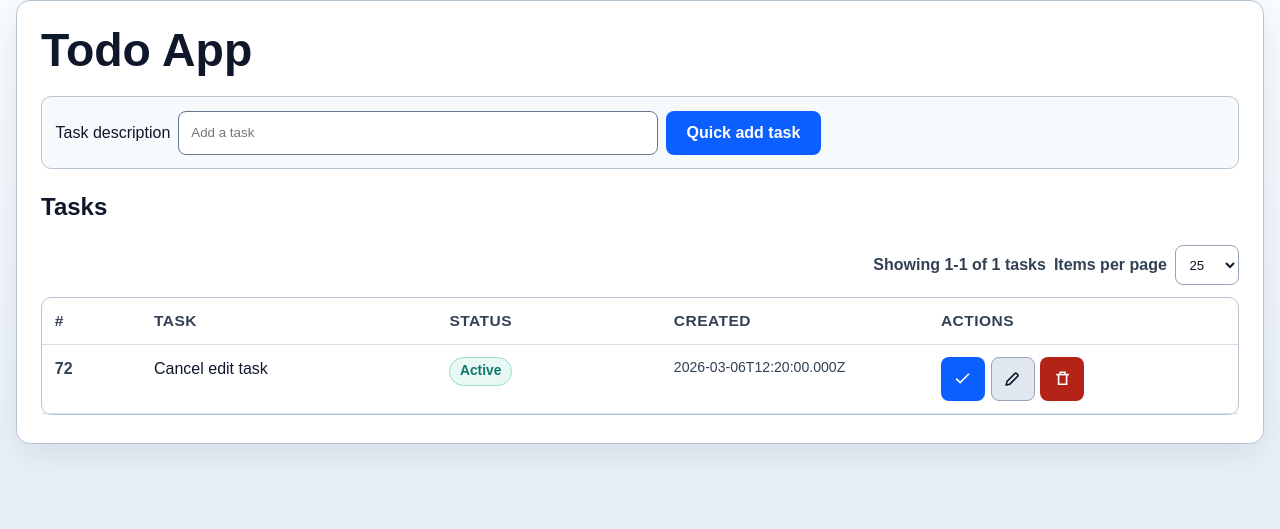
Task list and quick-add flows › cancels inline edit without sending PATCH mutation
expect the text "Cancel edit task" is shown: met, box top-left (154, 360), bottom-right (268, 377)
Click the button named "Edit task \"Cancel edit task\"" at (1012, 379), box top-left (990, 357), bottom-right (1034, 401)
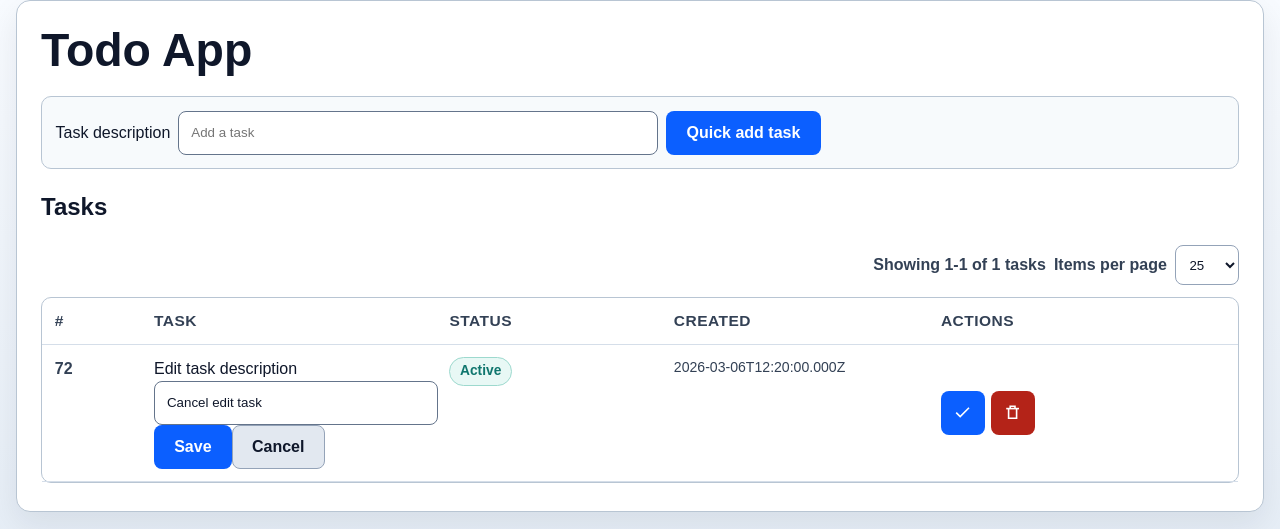
Replace the text in the field named "Edit description for task \"Cancel edit task\"" with "Should not persist" at (296, 403), box top-left (154, 381), bottom-right (438, 425)
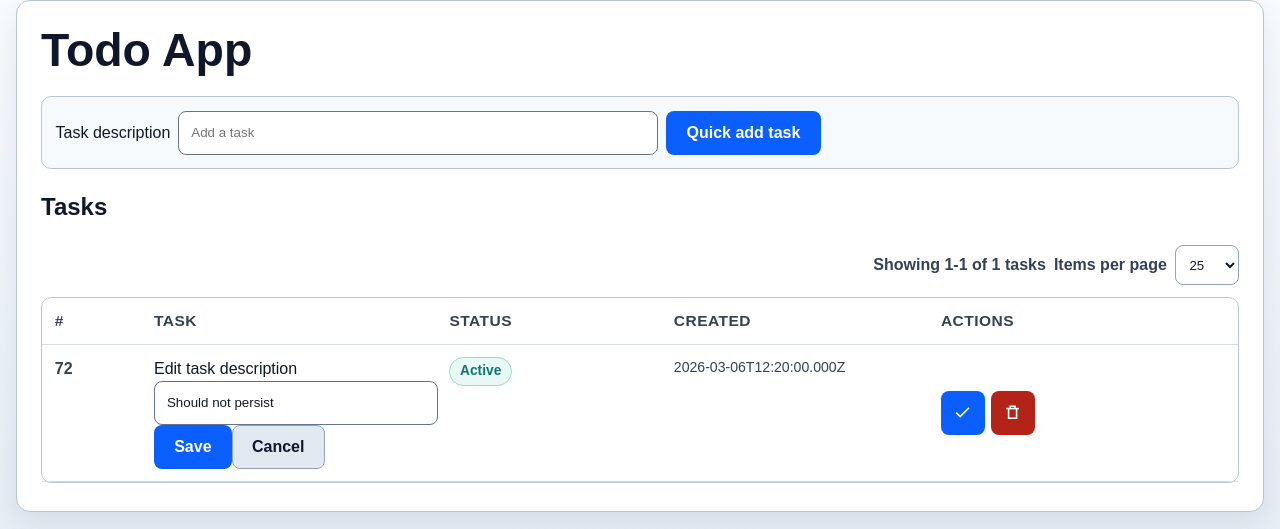
Click the button "Cancel" at (278, 447), box top-left (232, 425), bottom-right (324, 469)
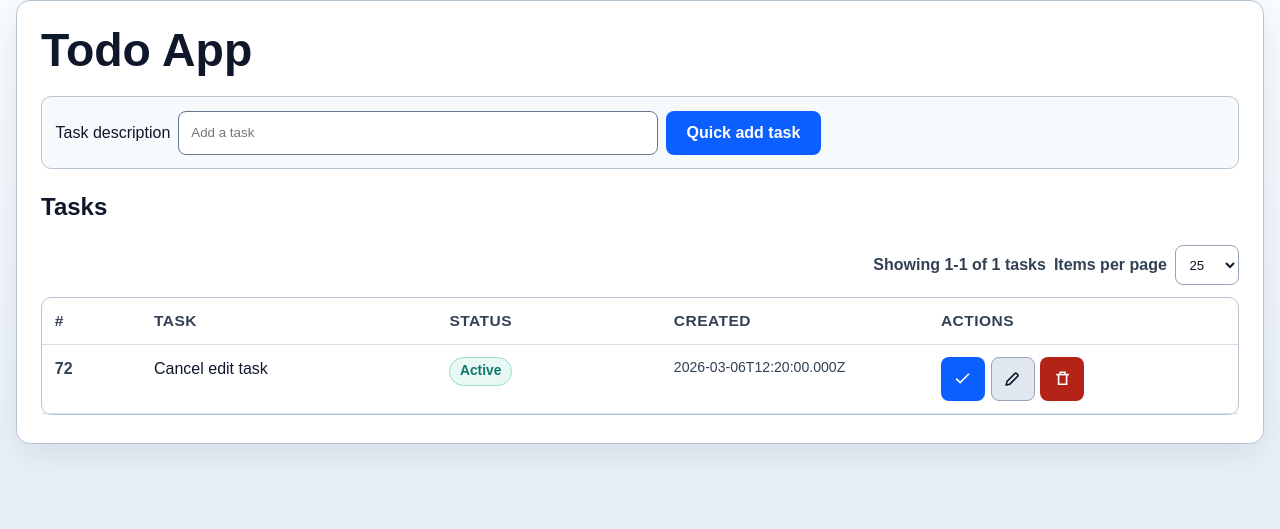
expect the text "Cancel edit task" is shown: met, box top-left (154, 360), bottom-right (268, 377)
